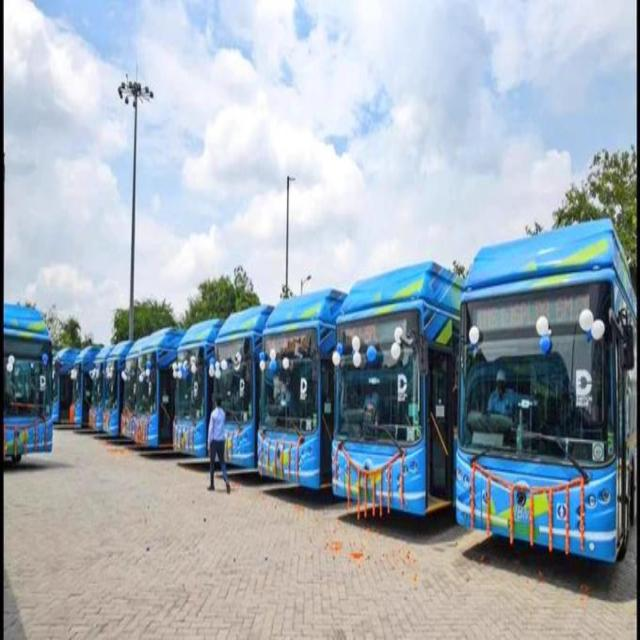bus: (455, 220, 636, 561), (332, 262, 461, 516), (258, 289, 345, 489)
